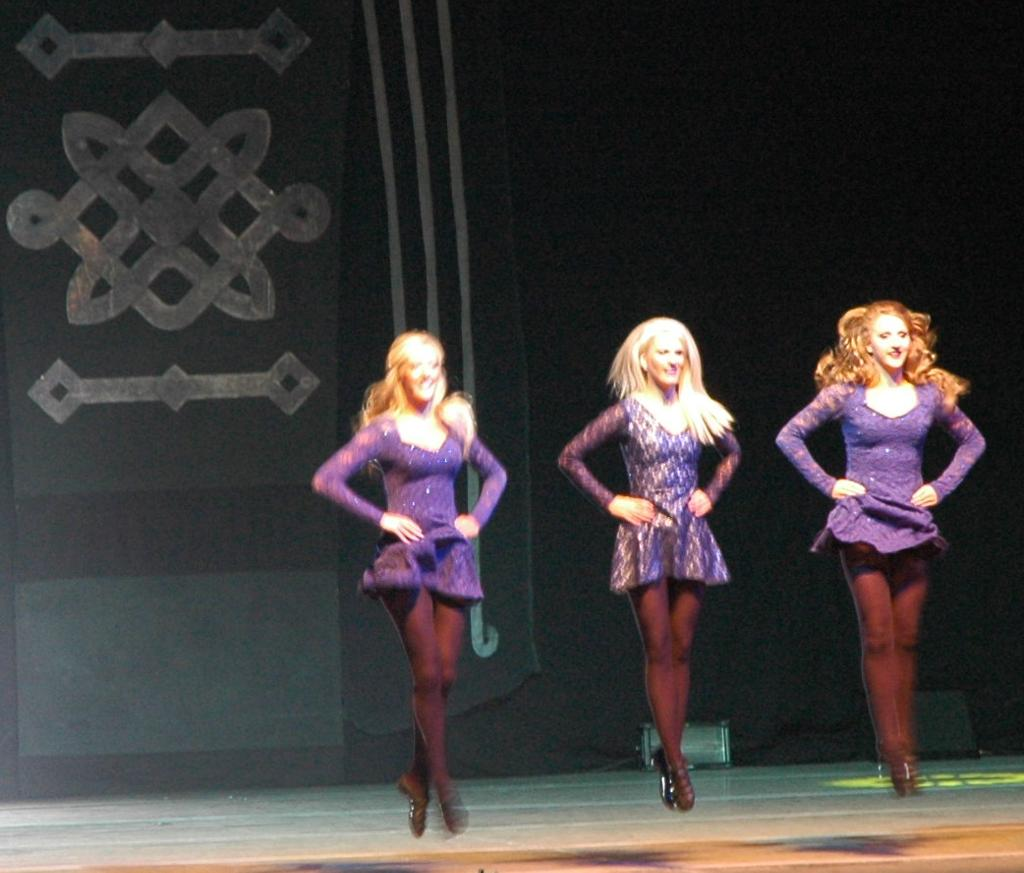face: (402, 349, 439, 402), (875, 318, 908, 367), (650, 337, 683, 385)
